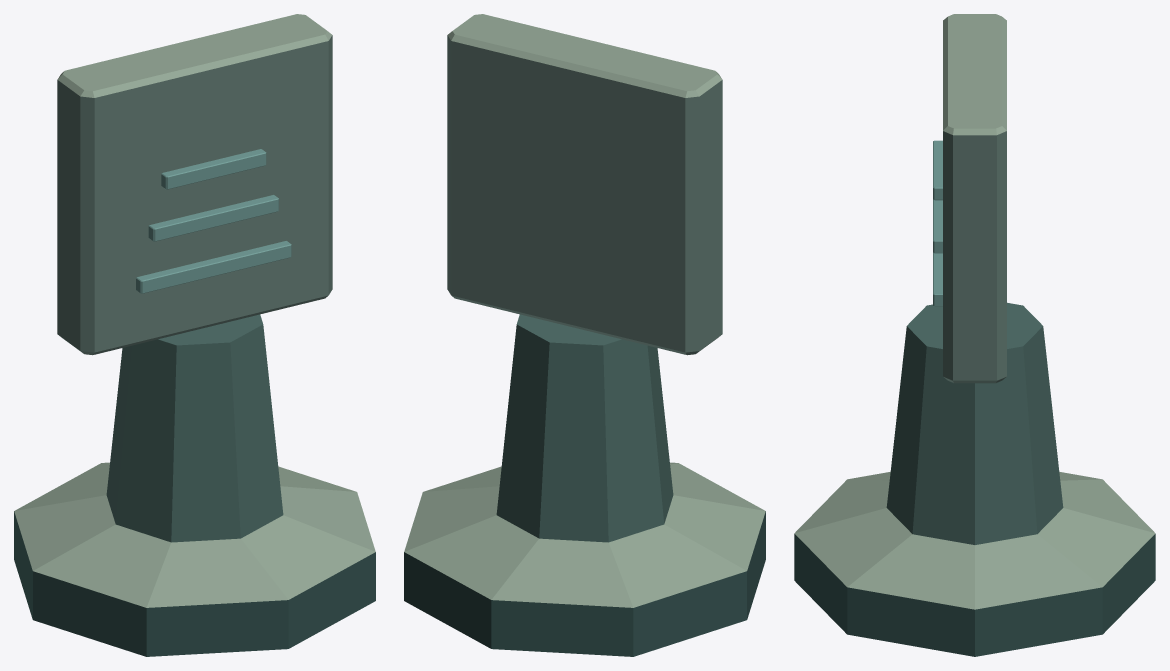
The model's file is tablet-plinth.glb.
The picture shows the model from 3 angles, left to right: view 1: azimuth 30°, elevation 25°; view 2: azimuth 150°, elevation 25°; view 3: azimuth 270°, elevation 25°; orthographic projection. The views are drawn at different scales.
Visible parts, largest first — view 1: tablet-plinth__body; view 2: tablet-plinth__body; view 3: tablet-plinth__body.
Part boxes in pixels (x1,y1,x2,y2): tablet-plinth__body: (14, 14, 375, 656); tablet-plinth__body: (404, 14, 765, 656); tablet-plinth__body: (794, 14, 1155, 656).
Bounding box in the file's own units: 0.9 × 1.4 × 0.9.
